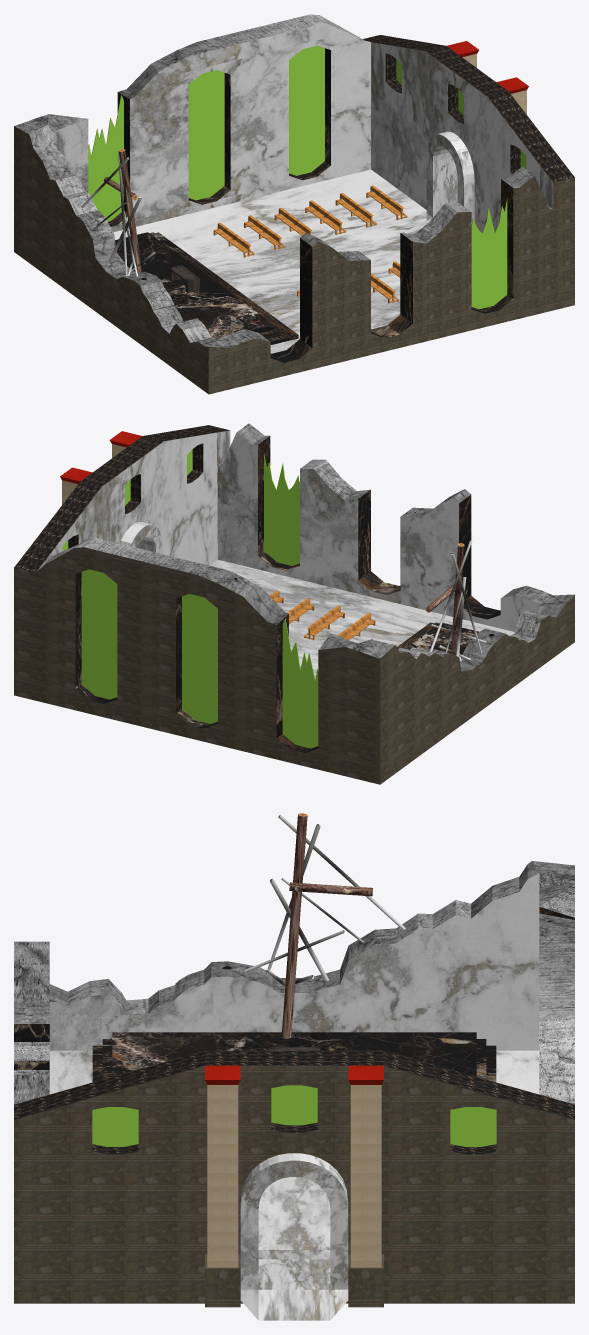
Rendered from IgleisaBicifijo.fbx.
3 renders of one model, top to bottom at view 1: azimuth 30°, elevation 25°; view 2: azimuth 150°, elevation 25°; view 3: azimuth 270°, elevation 25°, orthographic. The views are drawn at different scales.
Parts seen in each view (by area): view 1: Iglesia, CristalesLaterales, Altar, ArcoEntrada, Banco, Tubos, Columnas, Bicifijo, Mesa; view 2: Iglesia, CristalesLaterales, Banco, Tubos, Altar, Columnas, ArcoEntrada, Bicifijo; view 3: Iglesia, Columnas, ArcoEntrada, Altar, CristalesFrente, Bicifijo, Tubos.
Boxes of the visible parts, <box> form: Iglesia: <box>14,14,574,394</box>; CristalesLaterales: <box>88,45,507,309</box>; Altar: <box>115,232,298,344</box>; ArcoEntrada: <box>404,131,474,234</box>; Banco: <box>213,185,407,303</box>; Tubos: <box>81,151,155,276</box>; Columnas: <box>447,41,528,114</box>; Bicifijo: <box>104,149,141,273</box>; Mesa: <box>169,265,199,292</box>; Iglesia: <box>14,423,574,784</box>; CristalesLaterales: <box>81,455,318,748</box>; Banco: <box>270,590,375,640</box>; Tubos: <box>430,540,486,661</box>; Altar: <box>397,622,479,654</box>; Columnas: <box>60,431,141,504</box>; ArcoEntrada: <box>120,522,162,553</box>; Bicifijo: <box>425,543,464,655</box>; Iglesia: <box>14,861,574,1303</box>; Columnas: <box>205,1065,383,1307</box>; ArcoEntrada: <box>240,1153,348,1320</box>; Altar: <box>92,1032,496,1082</box>; CristalesFrente: <box>92,1085,496,1146</box>; Bicifijo: <box>281,813,372,1038</box>; Tubos: <box>244,815,405,987</box>.
Bounding box in the file's own units: 11300 × 4465 × 9400.
